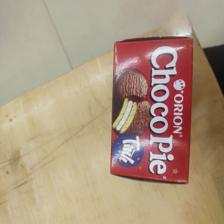Chocopie: (110, 34, 192, 186)
